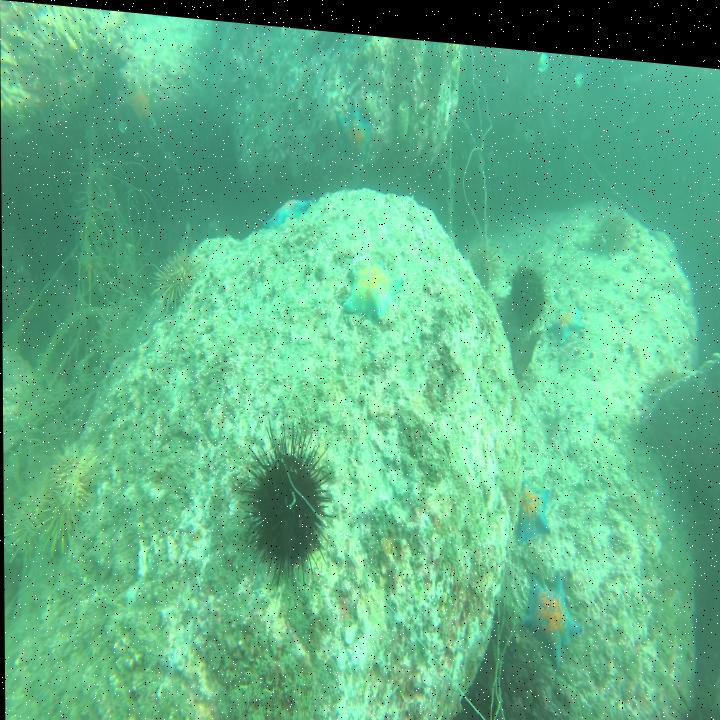echinus: (243, 422, 333, 574), (155, 236, 202, 311), (54, 437, 98, 514), (42, 475, 83, 555), (11, 485, 46, 558), (672, 670, 720, 720), (510, 252, 547, 316), (591, 197, 633, 246), (466, 233, 496, 279)
starfish: (523, 558, 582, 652), (345, 253, 401, 315), (516, 463, 552, 541), (335, 92, 372, 160), (117, 72, 157, 134), (263, 184, 315, 231), (549, 284, 585, 338)
